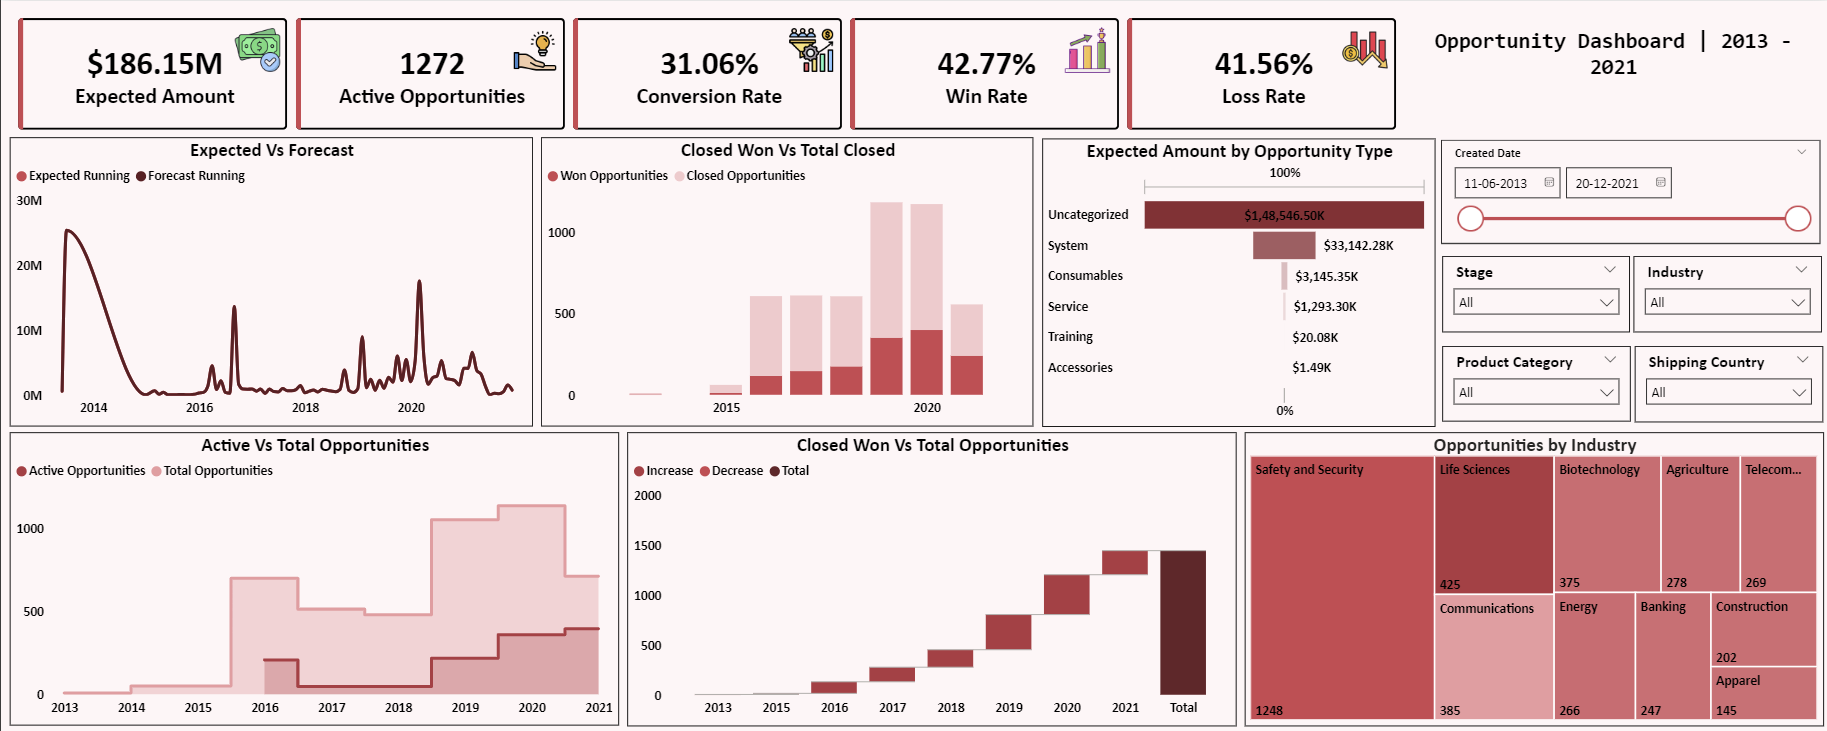

What the dashboard file says about the page in this screenshot:
{"tool":"powerbi","page":{"name":"Opportunity Dashboard","canvas":[1800,720],"ordinal":1},"visuals":[{"type":"cardVisual","fields":{"Data":["Opportunity.Expected Amount","Opportunity.Active Opportunities","Opportunity.Conversion Rate %","Opportunity.Win Rate","Opportunity.Loss Rate"]},"box":[0,0,1394.7,144.7],"z":0},{"type":"lineChart","title":"Expected Vs Forecast","fields":{"Category":["Opportunity.Created Date.Variation.Date Hierarchy.Year","Opportunity.Created Date.Variation.Date Hierarchy.Month"],"Y":["Opportunity.Expected Running Total","Opportunity.Forecast Running Total"]},"box":[8.2,134.1,515.1,284.5],"z":1000},{"type":"areaChart","title":"Active Vs Total Opportunities","fields":{"Category":["Opportunity.Created Date.Variation.Date Hierarchy.Year","Opportunity.Created Date.Variation.Date Hierarchy.Month"],"Y":["Opportunity.Active Opportunities","Opportunity.Total Opportunities"]},"box":[8.2,424.4,600.1,289],"z":2000},{"type":"columnChart","title":"Closed Won Vs Total Closed","fields":{"Category":["Opportunity.Created Date.Variation.Date Hierarchy.Year","Opportunity.Created Date.Variation.Date Hierarchy.Month"],"Y":["Opportunity.Won Opportunities","Opportunity.Closed Opportunities"]},"box":[531.7,134.1,485,284.5],"z":3000},{"type":"waterfallChart","title":"Closed Won Vs Total Opportunities","fields":{"Category":["Opportunity.Created Date.Variation.Date Hierarchy.Year","Opportunity.Created Date.Variation.Date Hierarchy.Quarter","Opportunity.Created Date.Variation.Date Hierarchy.Month"],"Y":["Opportunity.Won Opportunities"]},"box":[616.5,424.2,600.1,289.4],"z":4000},{"type":"funnel","title":"Expected Amount by Opportunity Type","fields":{"Category":["Opportunity.Product Category"],"Y":["Opportunity.Expected Amount"]},"box":[1025.2,135,387.4,283.7],"z":5000},{"type":"treemap","title":"Opportunities by Industry","fields":{"Group":["Account.Industry"],"Values":["CountNonNull(Opportunity.Opportunity ID)"]},"box":[1224.7,424.2,570,289.4],"z":6000},{"type":"slicer","fields":{"Values":["Opportunity.Created Date"]},"box":[1418.5,136.2,373.6,102.5],"z":7000},{"type":"slicer","fields":{"Values":["Opportunity.Stage"]},"box":[1419.1,251.7,185,75],"z":8000},{"type":"slicer","fields":{"Values":["Account.Industry"]},"box":[1607.3,251.7,185.4,75],"z":9000},{"type":"slicer","fields":{"Values":["Opportunity.Product Category"]},"box":[1419.4,339.6,185.3,74.6],"z":10000},{"type":"slicer","fields":{"Values":["Account.Shipping Country"]},"box":[1608.7,339.5,185.4,75],"z":11000},{"type":"image","box":[230.3,25.8,44.9,44.9],"z":12000},{"type":"image","box":[502.8,25.8,44.9,44.9],"z":13000},{"type":"image","box":[775.3,25.8,44.9,44.9],"z":14000},{"type":"image","box":[1047.8,25.8,44.9,44.9],"z":15000},{"type":"image","box":[1320.2,25.8,44.9,44.9],"z":16000},{"type":"textbox","box":[1383.4,25.3,408.7,99.7],"z":17000}]}

Visuals, with their boxes in screenshot pixels (x1, y1, x2, y2), scaled from the page's 1800x720 canvas onto the 1827x731 screenshot:
cardVisual - Opportunity.Expected Amount x Opportunity.Active Opportunities: (0,0,1416,147)
"Expected Vs Forecast" lineChart: (8,136,531,425)
"Active Vs Total Opportunities" areaChart: (8,431,617,724)
"Closed Won Vs Total Closed" columnChart: (540,136,1032,425)
"Closed Won Vs Total Opportunities" waterfallChart: (626,431,1235,725)
"Expected Amount by Opportunity Type" funnel: (1041,137,1434,425)
"Opportunities by Industry" treemap: (1243,431,1822,725)
slicer - Opportunity.Created Date: (1440,138,1819,242)
slicer - Opportunity.Stage: (1440,256,1628,332)
slicer - Account.Industry: (1631,256,1820,332)
slicer - Opportunity.Product Category: (1441,345,1629,421)
slicer - Account.Shipping Country: (1633,345,1821,421)
image: (234,26,279,72)
image: (510,26,556,72)
image: (787,26,833,72)
image: (1064,26,1109,72)
image: (1340,26,1386,72)
textbox: (1404,26,1819,127)
